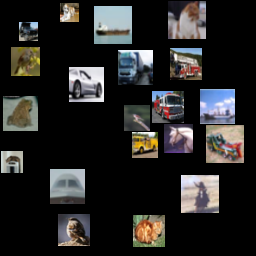airplane: (164, 13, 199, 48), (11, 90, 43, 122)
automobile: (162, 161, 181, 180)
bird: (137, 114, 169, 146), (91, 14, 117, 40)
cat: (20, 193, 58, 231)
deer: (110, 85, 136, 111), (78, 212, 97, 231)
dog: (134, 40, 156, 62), (137, 198, 153, 214)
ship: (203, 78, 238, 113), (192, 116, 224, 148), (162, 194, 184, 216), (85, 178, 104, 197)
